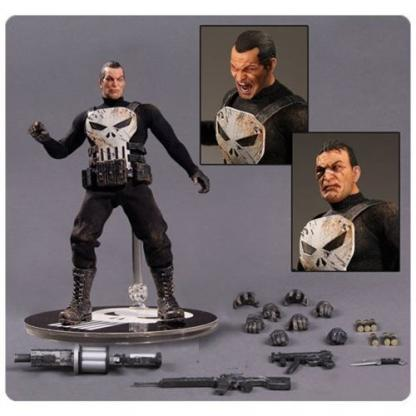Grenade: (368, 331, 379, 349), (379, 331, 391, 347), (390, 332, 400, 346)
Gun: (13, 342, 164, 376), (131, 370, 292, 398), (266, 350, 336, 377)
Knife: (350, 356, 406, 371)
